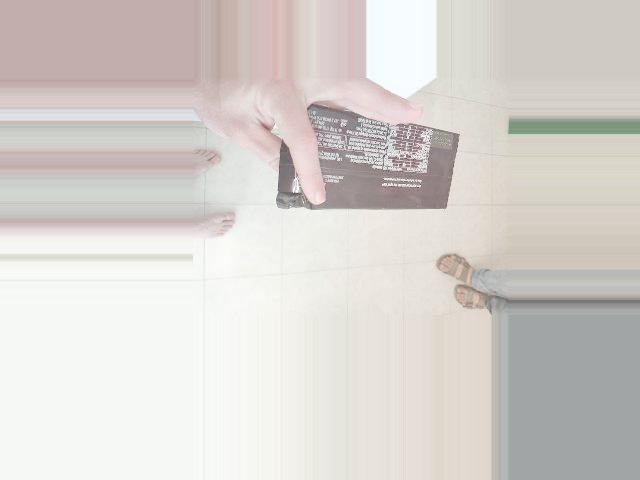chocolate: (304, 123, 408, 314)
